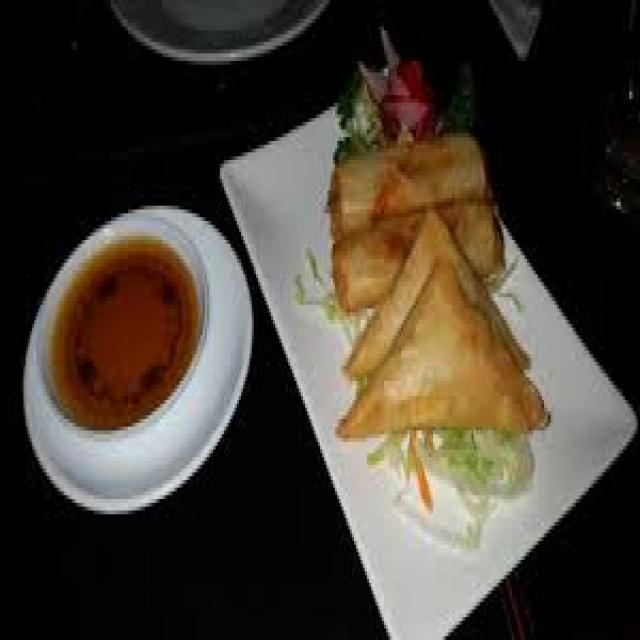Samosa: (340, 217, 534, 457)
Spring Rolls: (330, 118, 508, 305)
